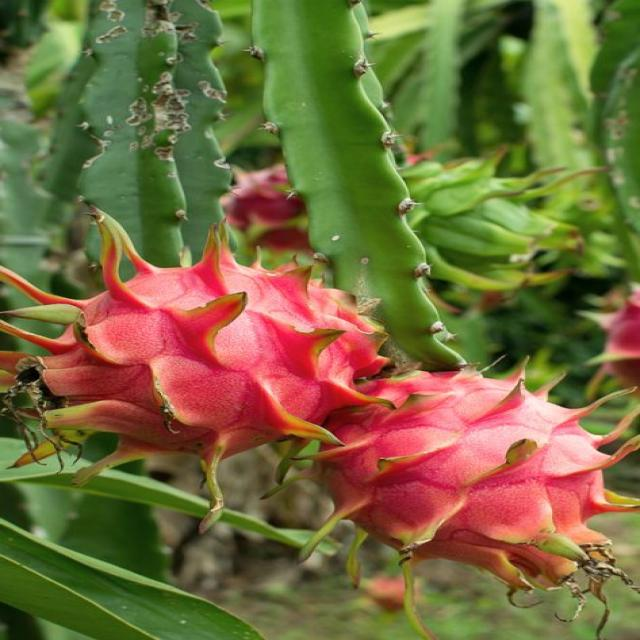Thanh Long: (9, 237, 400, 483), (311, 368, 639, 598), (200, 158, 586, 298), (584, 295, 640, 400)
